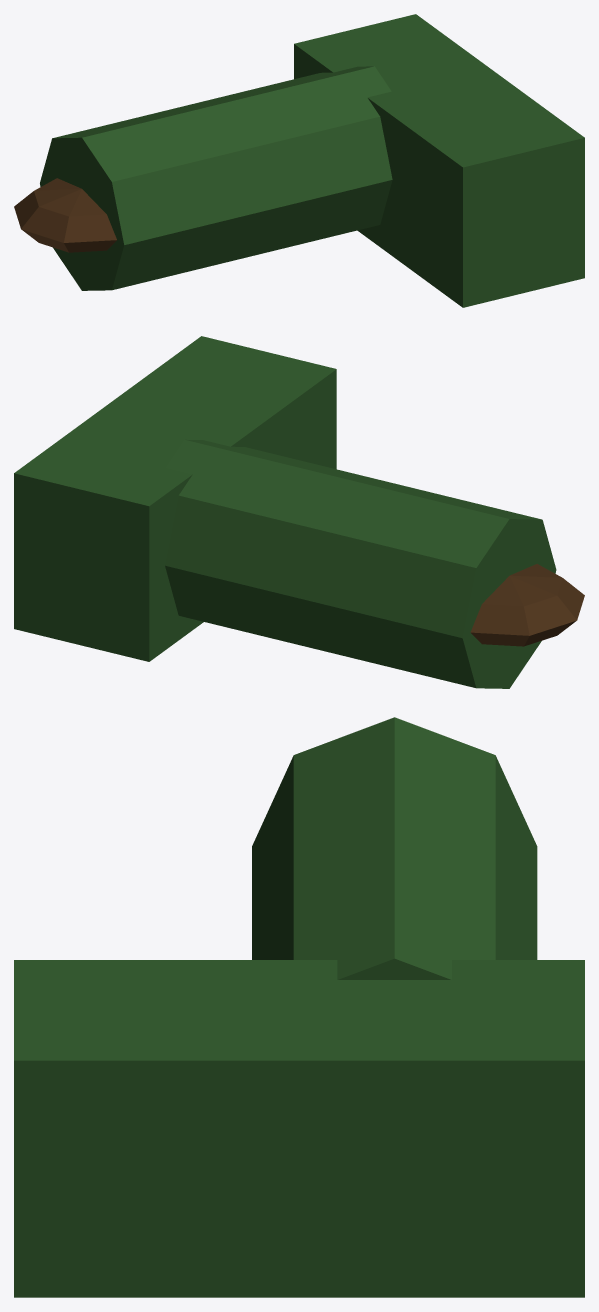
The model's file is mud_boot.glb.
3 renders of one model, top to bottom at view 1: azimuth 30°, elevation 25°; view 2: azimuth 150°, elevation 25°; view 3: azimuth 270°, elevation 25°, orthographic. The views are drawn at different scales.
Visible parts, largest first — view 1: leg_boot_green, foot_boot_green, mud_fresh_mud; view 2: leg_boot_green, foot_boot_green, mud_fresh_mud; view 3: foot_boot_green, leg_boot_green.
Part boxes in pixels (left/top/right/bottom): leg_boot_green: left=40, top=66, right=392, bottom=290; foot_boot_green: left=294, top=14, right=584, bottom=307; mud_fresh_mud: left=14, top=178, right=116, bottom=252; leg_boot_green: left=165, top=439, right=556, bottom=688; foot_boot_green: left=14, top=336, right=336, bottom=661; mud_fresh_mud: left=470, top=564, right=584, bottom=646; foot_boot_green: left=14, top=960, right=584, bottom=1297; leg_boot_green: left=252, top=717, right=537, bottom=979.
Size of the model in its own units: 0.37 by 0.12 by 0.24.
